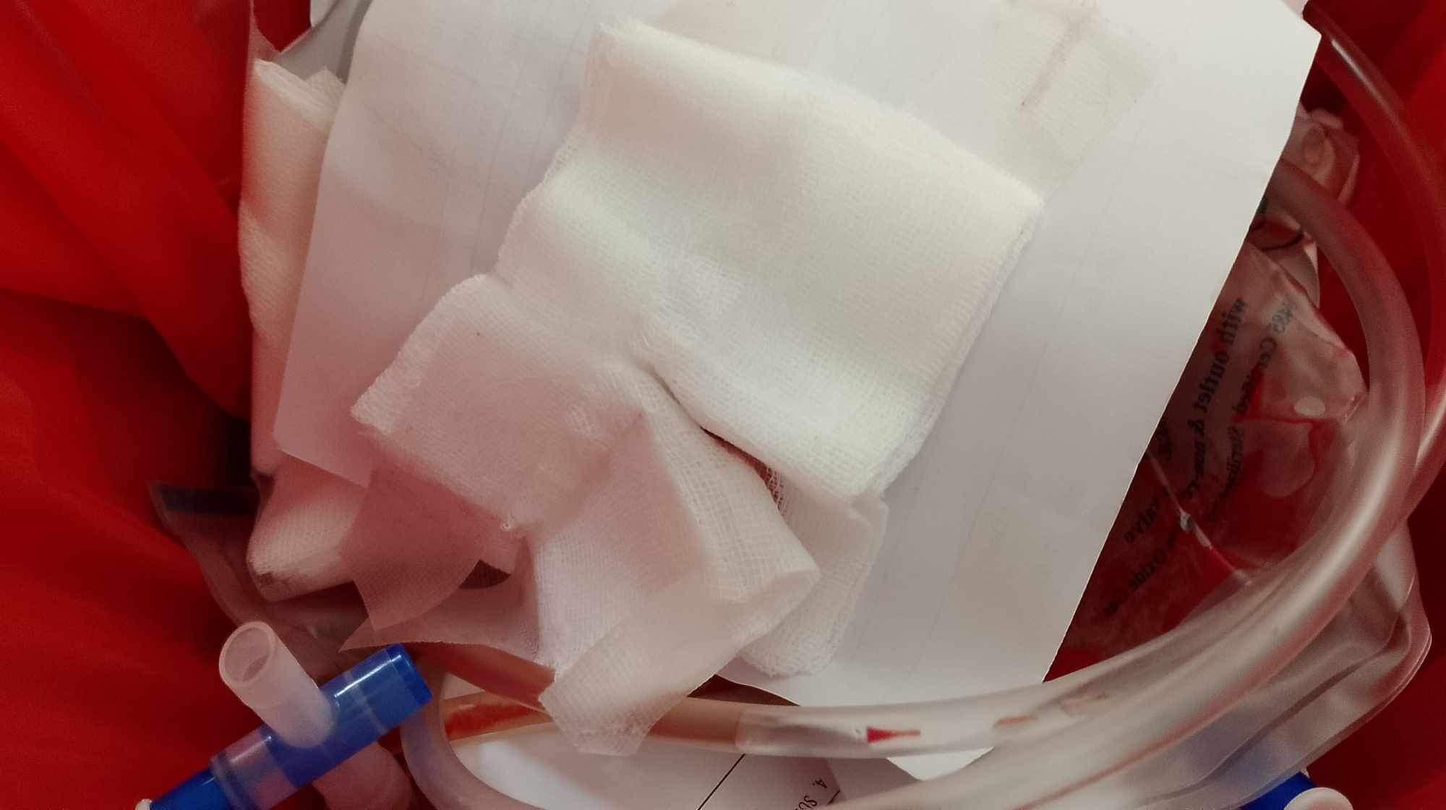General: (134, 3, 1437, 806)
Sharps: (134, 639, 434, 808)
